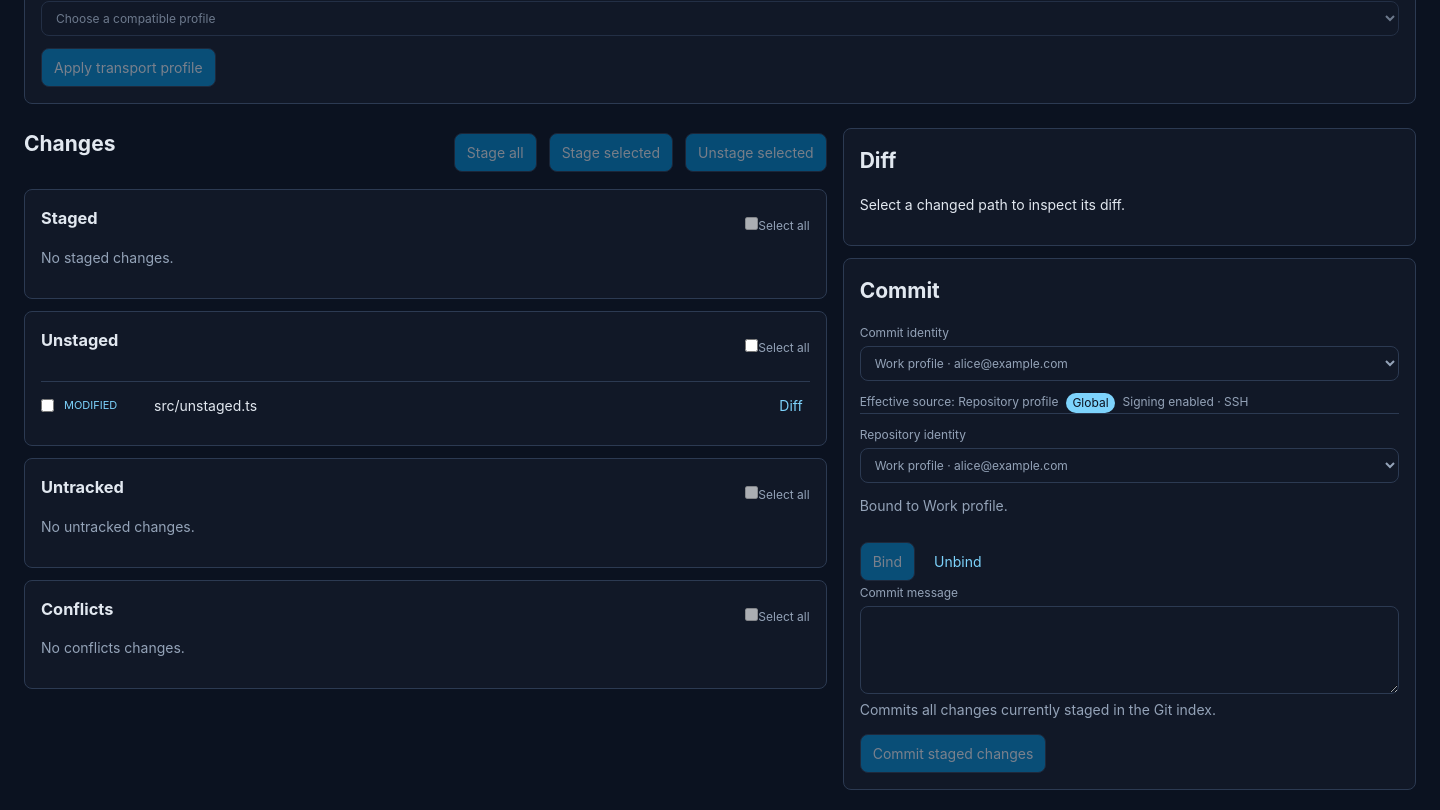
Test: RepositoryView › explains unavailable untrustedRepository diff content
(page scrolled)
Click the button with aria-label "View diff for src/unstaged.ts": coordinates (791, 405) [772,390,810,421]
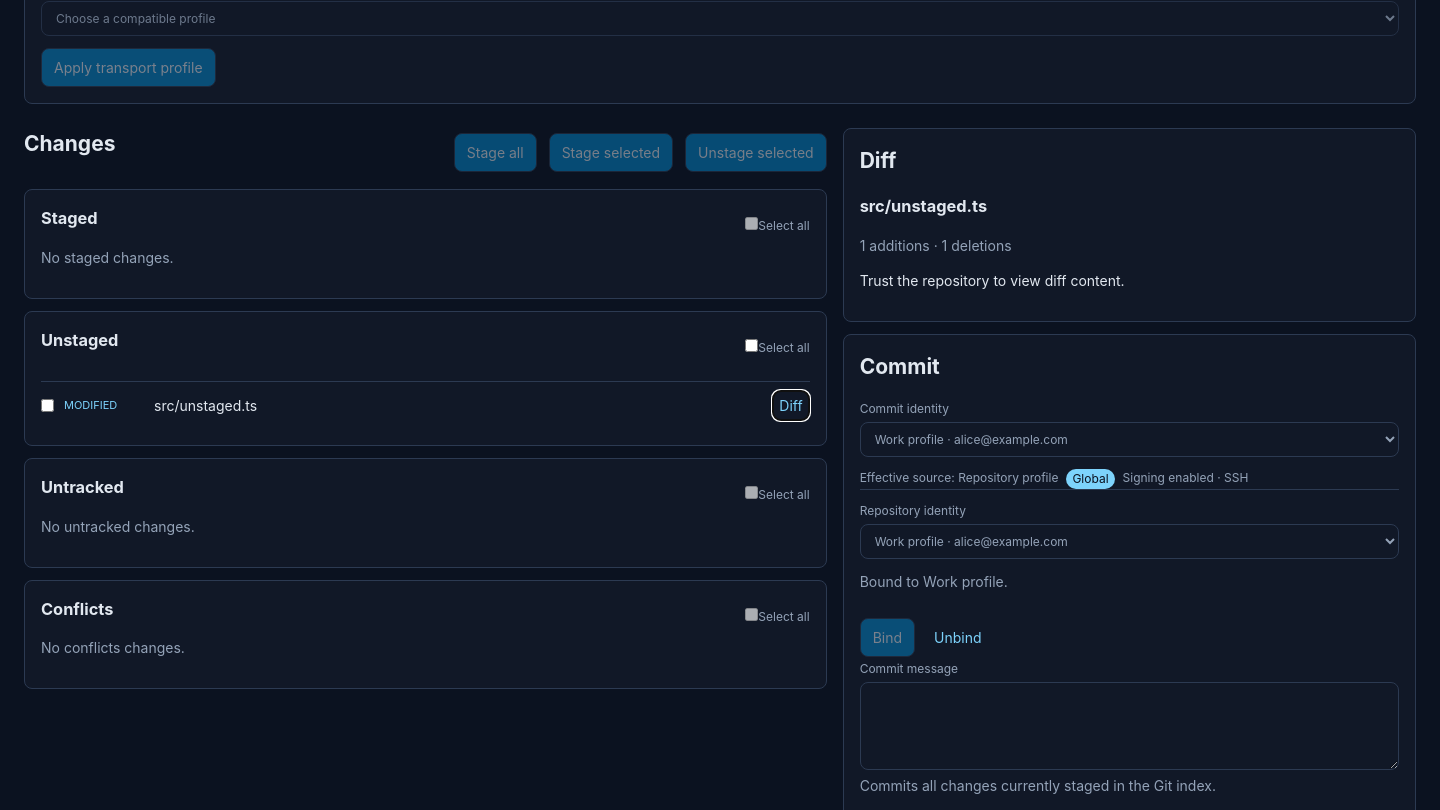
expect the text "Trust the repository to view diff content." is shown: met, box [860,272,1125,289]
